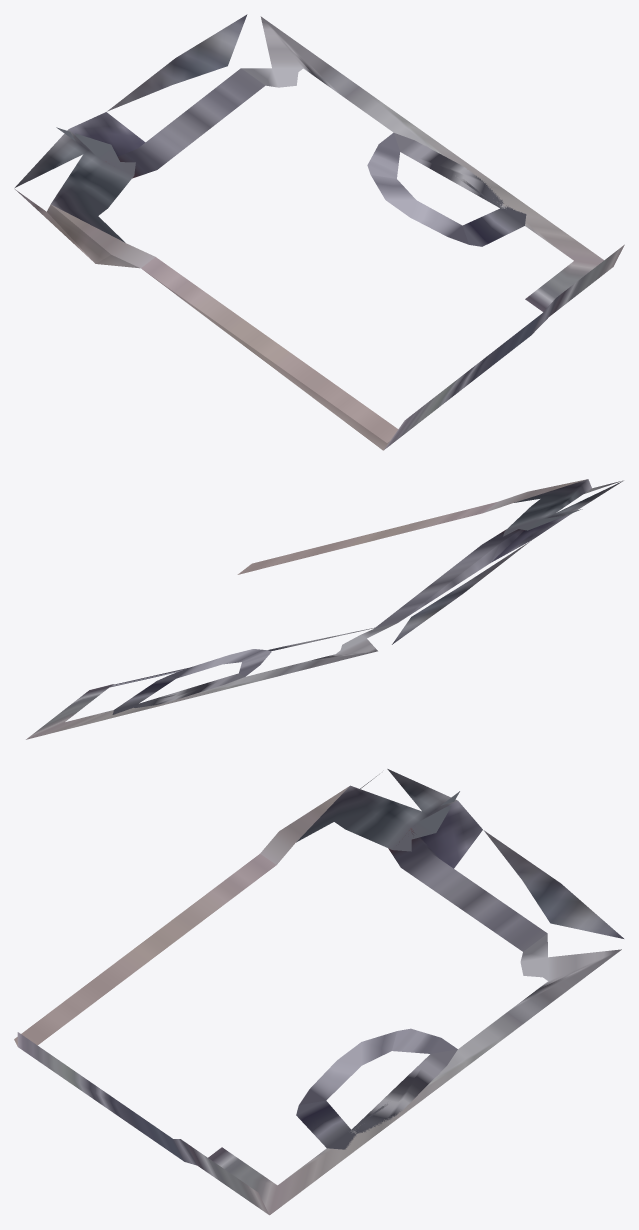
3 views of the same model, one above another, from view 1: azimuth 30°, elevation 25°; view 2: azimuth 210°, elevation 25°; view 3: azimuth 270°, elevation 25° (orthographic). The views are drawn at different scales.
Bounding box in the file's own units: 38 × 12.83 × 35.58.
1 material, 1 textured.
